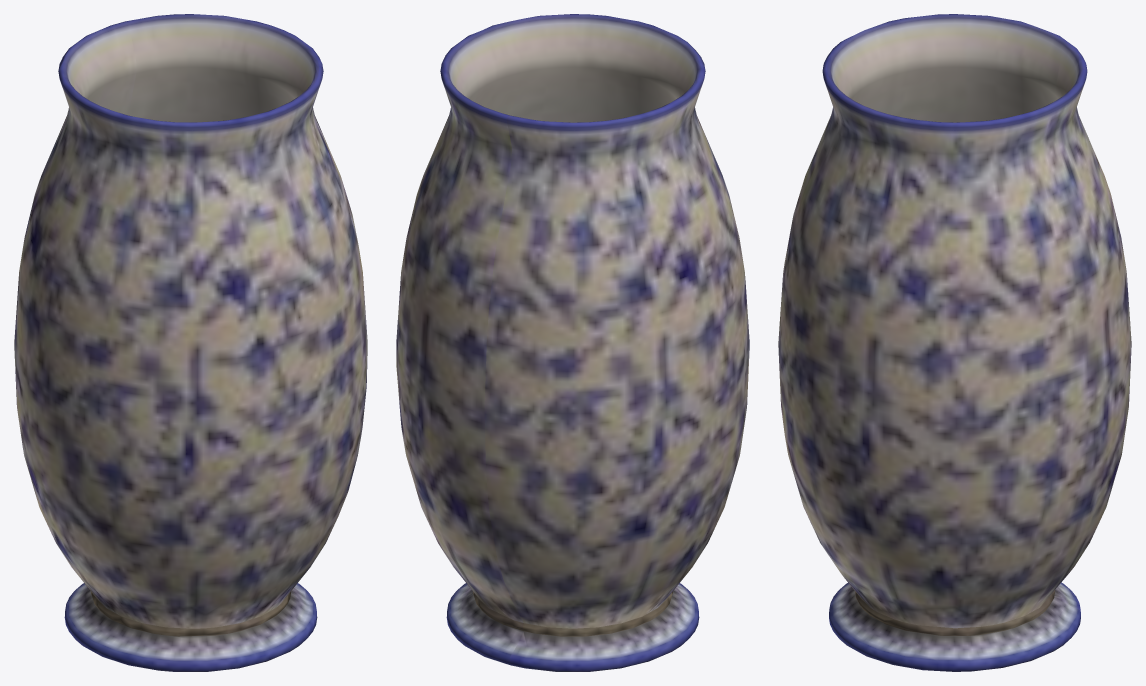
Rendered from th_vase.glb.
3 renders of one model, left to right at view 1: azimuth 30°, elevation 25°; view 2: azimuth 150°, elevation 25°; view 3: azimuth 270°, elevation 25°, orthographic.
Visible parts, largest first — view 1: antique_ceramic_vase_01; view 2: antique_ceramic_vase_01; view 3: antique_ceramic_vase_01.
Part boxes in pixels (x1,y1,x2,y2): antique_ceramic_vase_01: [14, 14, 367, 671]; antique_ceramic_vase_01: [396, 14, 749, 671]; antique_ceramic_vase_01: [778, 14, 1131, 671].
Size of the model in its own units: 0.2549 by 0.4396 by 0.255.
1 material, 1 textured.
